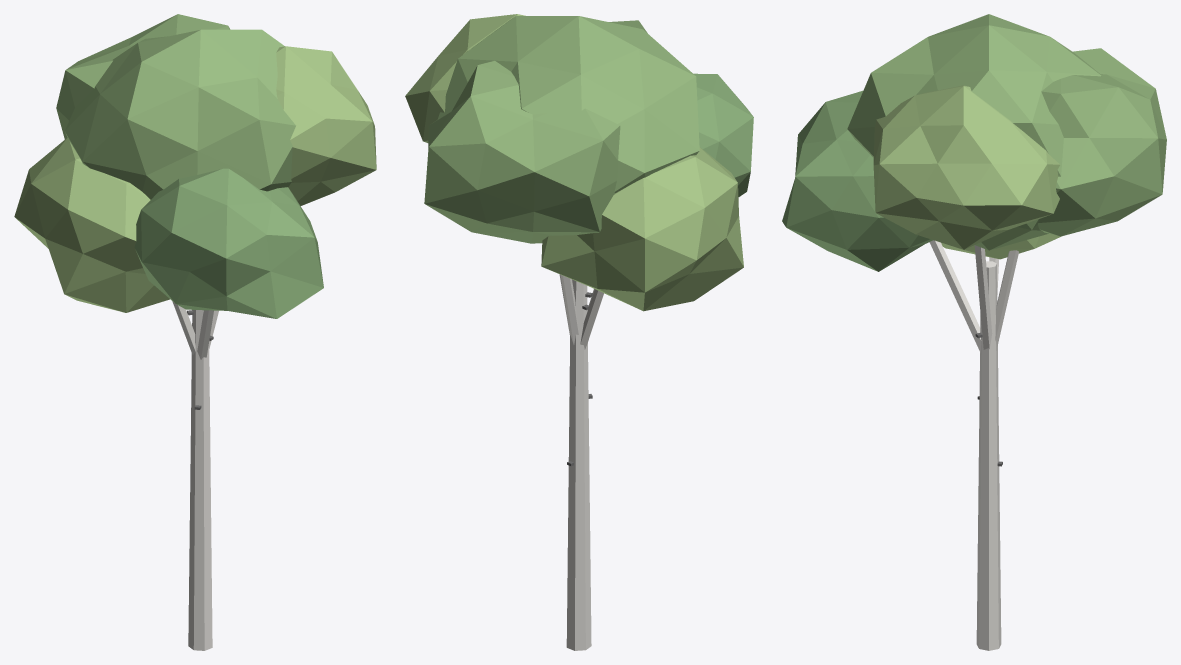
The model's file is node_tree_forest_3.glb.
The picture shows the model from 3 angles, left to right: view 1: azimuth 30°, elevation 25°; view 2: azimuth 150°, elevation 25°; view 3: azimuth 270°, elevation 25°; orthographic projection. The views are drawn at different scales.
Visible parts, largest first — view 1: node_tree_forest_3; view 2: node_tree_forest_3; view 3: node_tree_forest_3.
Boxes of the visible parts, x1,y1,x2,y2 form: node_tree_forest_3: [14, 14, 376, 650]; node_tree_forest_3: [405, 14, 753, 650]; node_tree_forest_3: [782, 14, 1166, 650].
Size of the model in its own units: 3.92 by 7.57 by 4.25.
